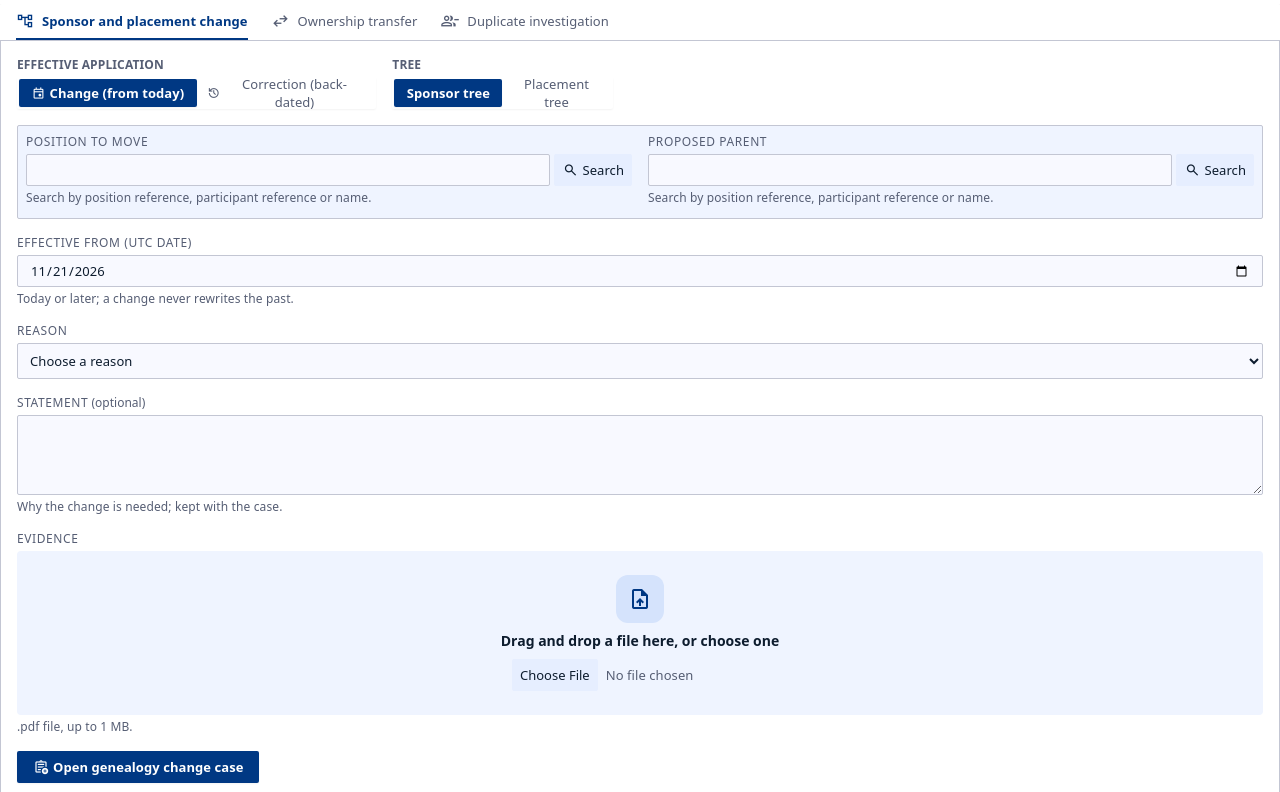
Scenario: GenealogyCasePage (SC-08 change) › asks for every required field before sending
(page scrolled)
Click the button "Open genealogy change case" at [138, 767], box [17,751,260,783]
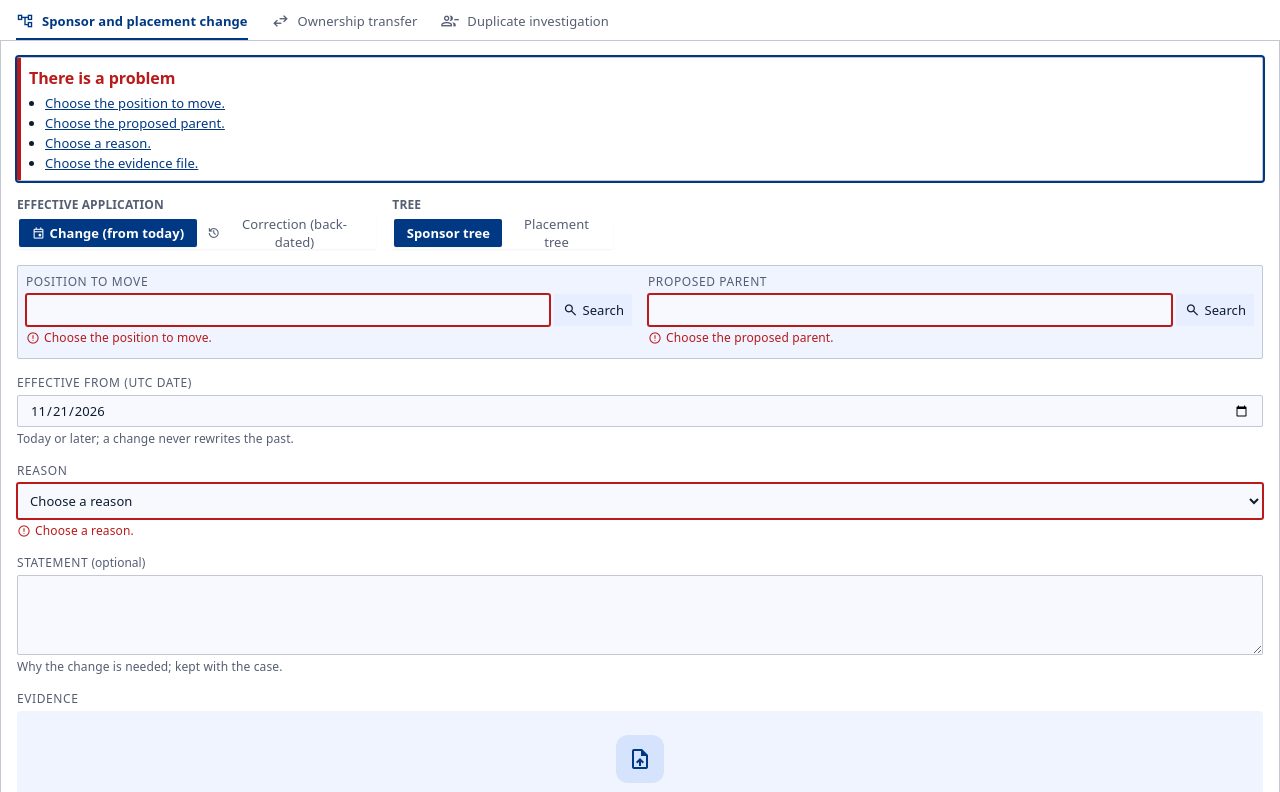
Expected: the link "Choose the position to move." is shown, [45,94,225,112]
Expected: the link "Choose the proposed parent." is shown, [45,114,225,132]
Expected: the link "Choose a reason." is shown, [45,134,151,152]
